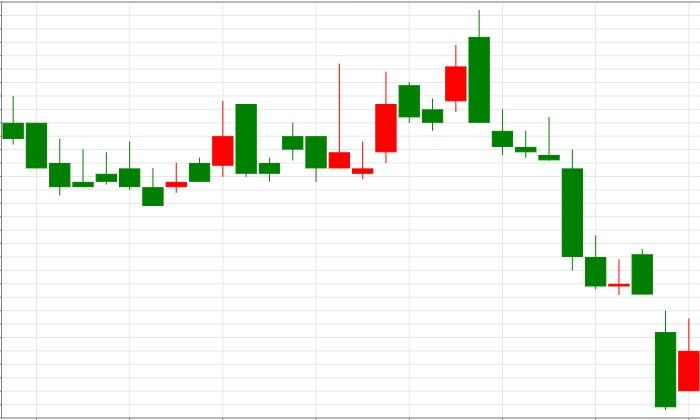bearish_engulfing_fall: (352, 9, 491, 179), (142, 101, 258, 207)
